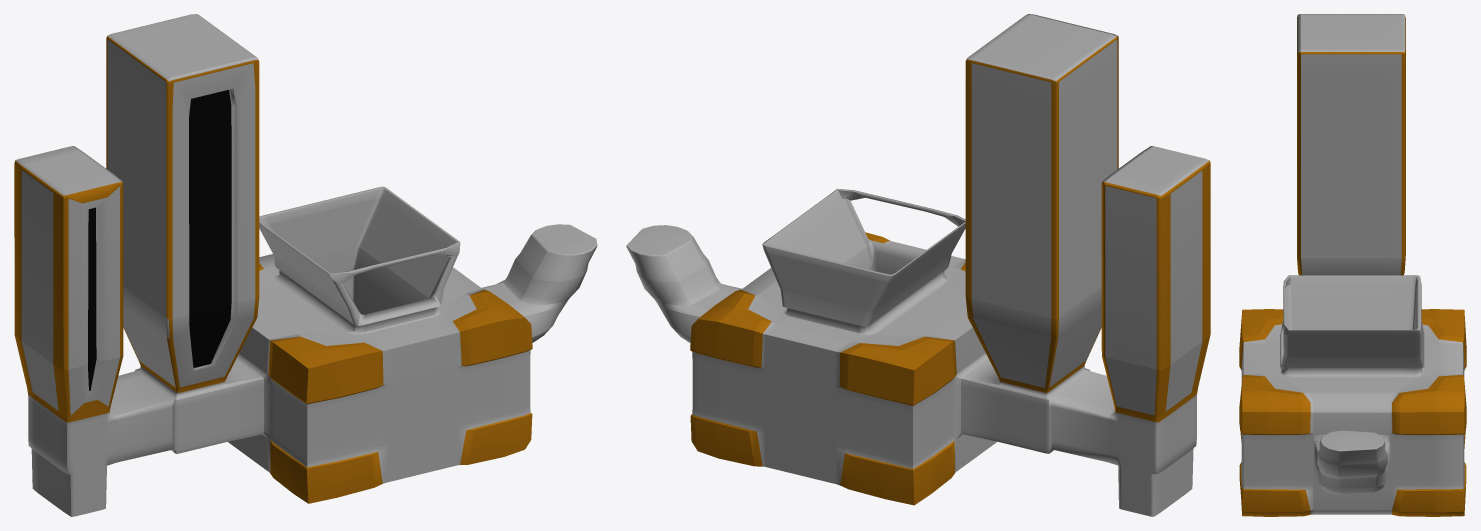
File: Misturador.fbx
3 views of the same model, side by side, from view 1: azimuth 30°, elevation 25°; view 2: azimuth 150°, elevation 25°; view 3: azimuth 270°, elevation 25° (orthographic). The views are drawn at different scales.
Parts seen in each view (by area): view 1: Misturador:Caixote_misturador; view 2: Misturador:Caixote_misturador; view 3: Misturador:Caixote_misturador.
Part boxes in pixels (left/top/right/bottom): Misturador:Caixote_misturador: left=14, top=14, right=597, bottom=516; Misturador:Caixote_misturador: left=626, top=14, right=1210, bottom=516; Misturador:Caixote_misturador: left=1239, top=14, right=1466, bottom=516.
Bounding box in the file's own units: 2.47 × 1.83 × 1.02.
